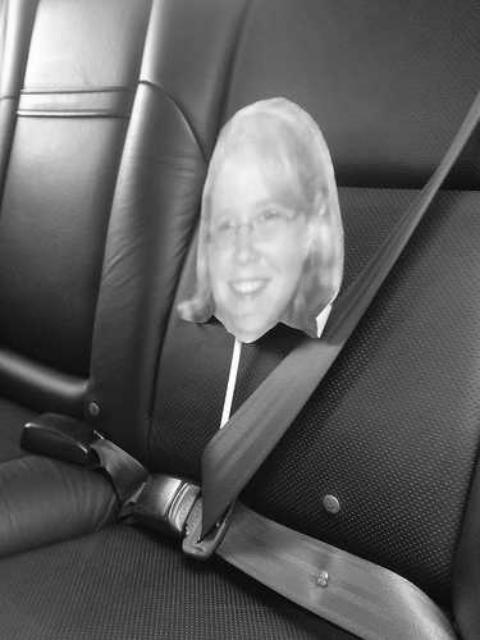Seatbelt: (122, 92, 480, 640)
